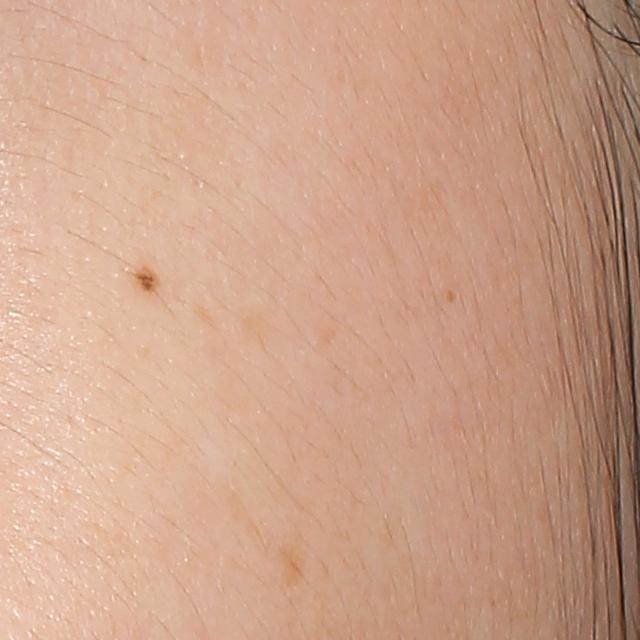melasma: (274, 537, 308, 594)
nevus: (138, 261, 160, 290)
